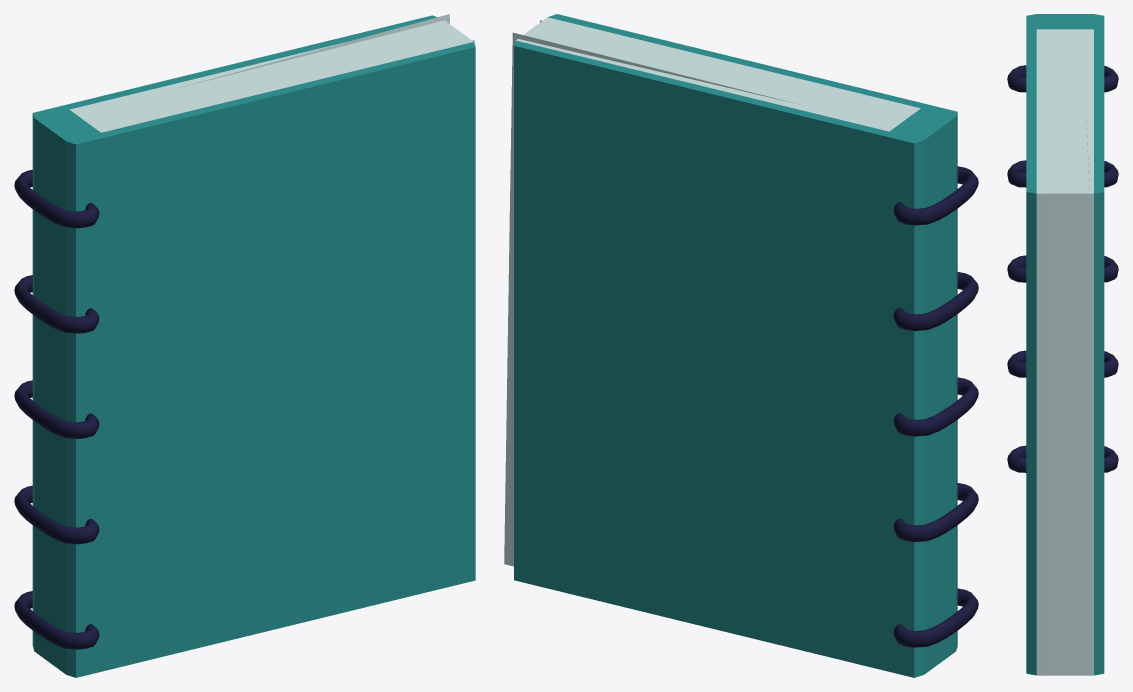
Rendered from SM_Book.FBX.
The picture shows the model from 3 angles, left to right: view 1: azimuth 30°, elevation 25°; view 2: azimuth 150°, elevation 25°; view 3: azimuth 270°, elevation 25°; orthographic projection. The views are drawn at different scales.
Parts seen in each view (by area): view 1: SM_Book; view 2: SM_Book; view 3: SM_Book.
Boxes of the visible parts, x1=… form: SM_Book: x1=14, y1=14, x2=475, y2=677; SM_Book: x1=504, y1=14, x2=978, y2=677; SM_Book: x1=1007, y1=14, x2=1118, y2=675.
Size of what is drawn, in the model's own units: 216 by 253 by 52.39.
